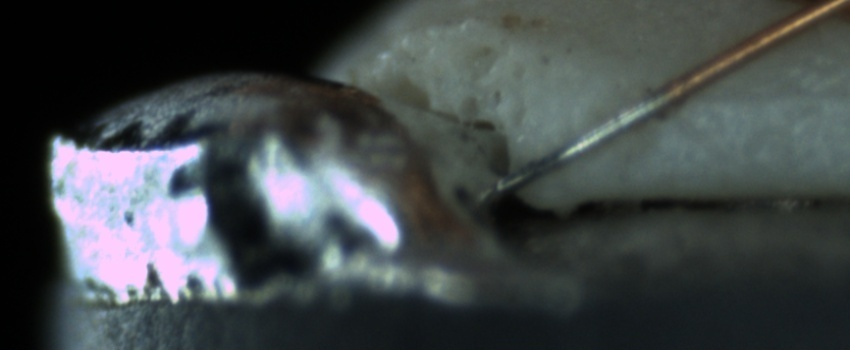CL: (772, 1, 850, 32)
DL: (674, 68, 849, 132)
TS: (494, 90, 674, 198)
